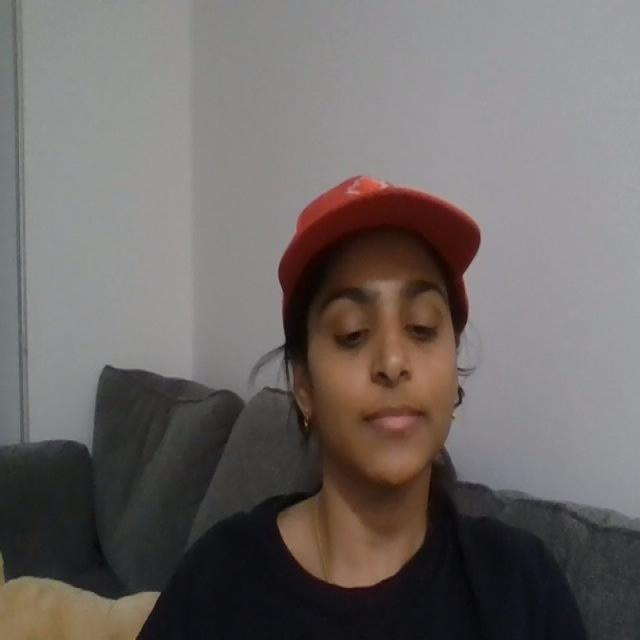Hat: (247, 142, 500, 282)
